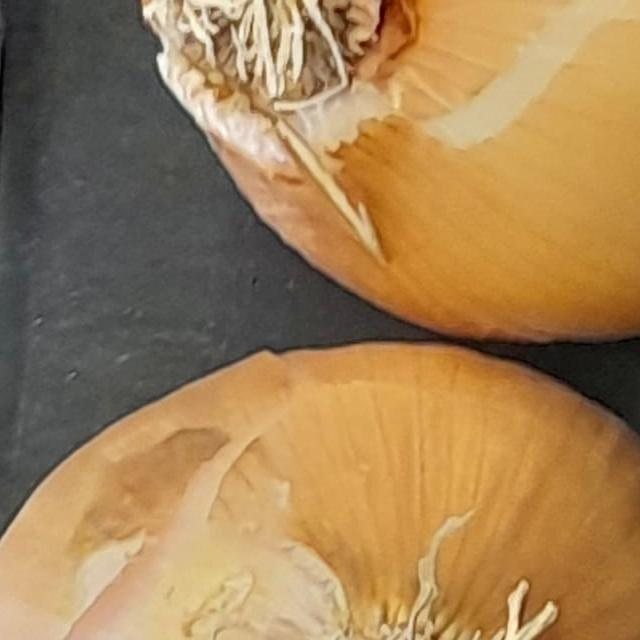onion: (0, 313, 640, 640), (96, 0, 640, 369)
